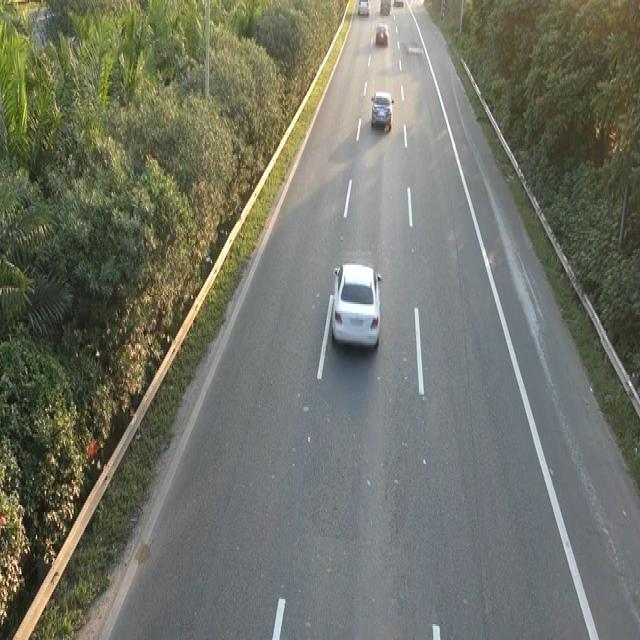bus: (328, 256, 383, 352), (369, 87, 394, 133)
